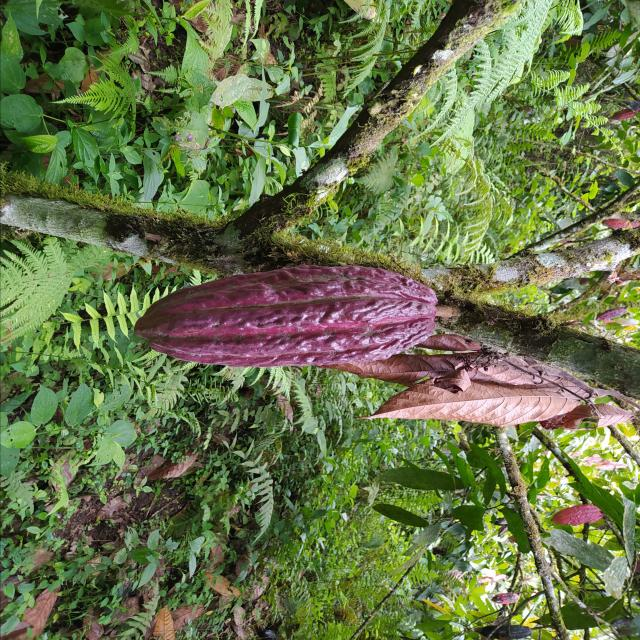Fitoftora: (475, 625, 530, 639)
Monilia: (491, 592, 521, 604)
Sana: (131, 265, 446, 367), (550, 504, 607, 526), (595, 308, 628, 320)
